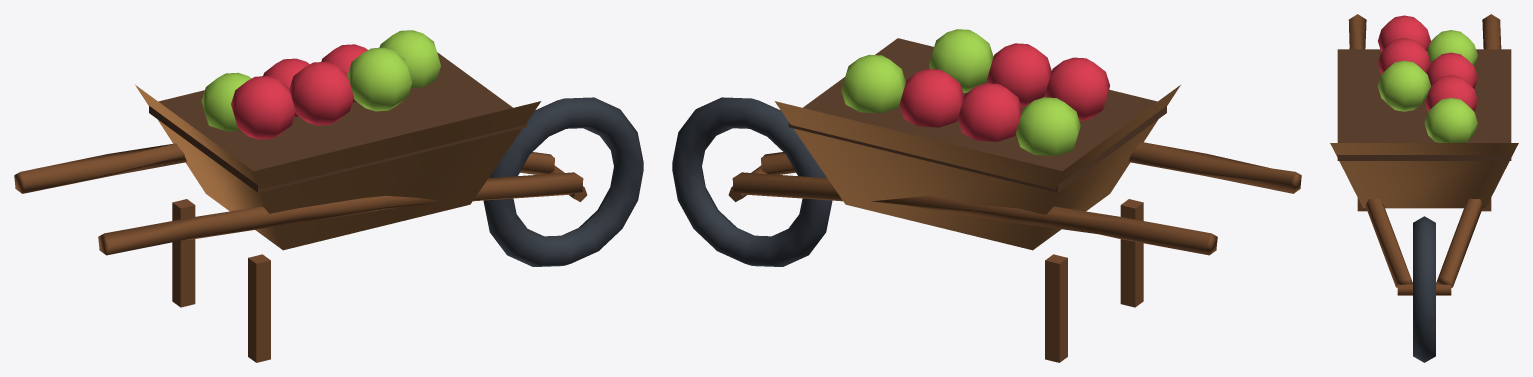
The model's file is Wheelbarrow.glb.
3 views of the same model, side by side, from view 1: azimuth 30°, elevation 25°; view 2: azimuth 150°, elevation 25°; view 3: azimuth 270°, elevation 25° (orthographic). The views are drawn at different scales.
Visible parts, largest first — view 1: Body; view 2: Body; view 3: Body.
Boxes of the visible parts, x1,y1,x2,y2 form: Body: [14, 30, 643, 362]; Body: [672, 29, 1301, 362]; Body: [1330, 14, 1518, 362].
Bounding box in the file's own units: 4 × 1.79 × 1.41.
Materials: 1 (1 with a texture image).
